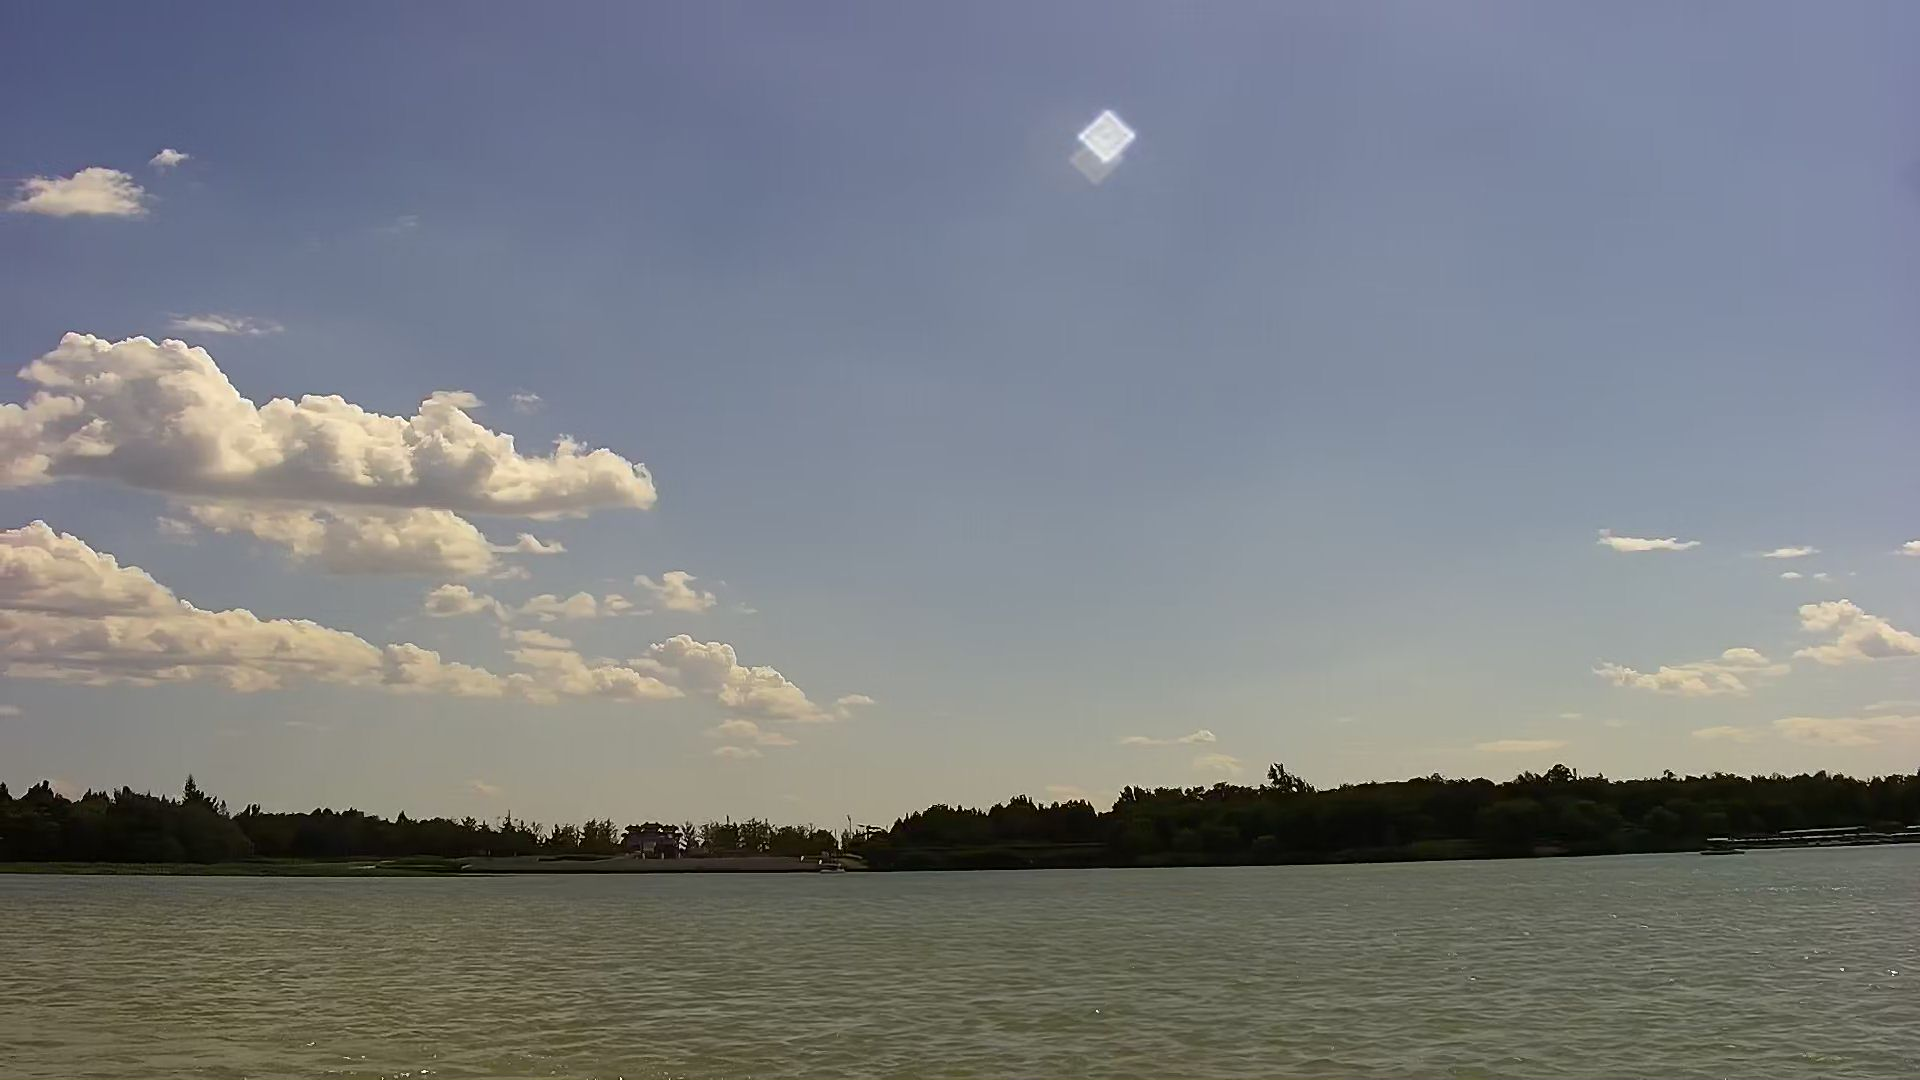boat: (1696, 833, 1743, 861)
harbor: (1749, 819, 1915, 843)
